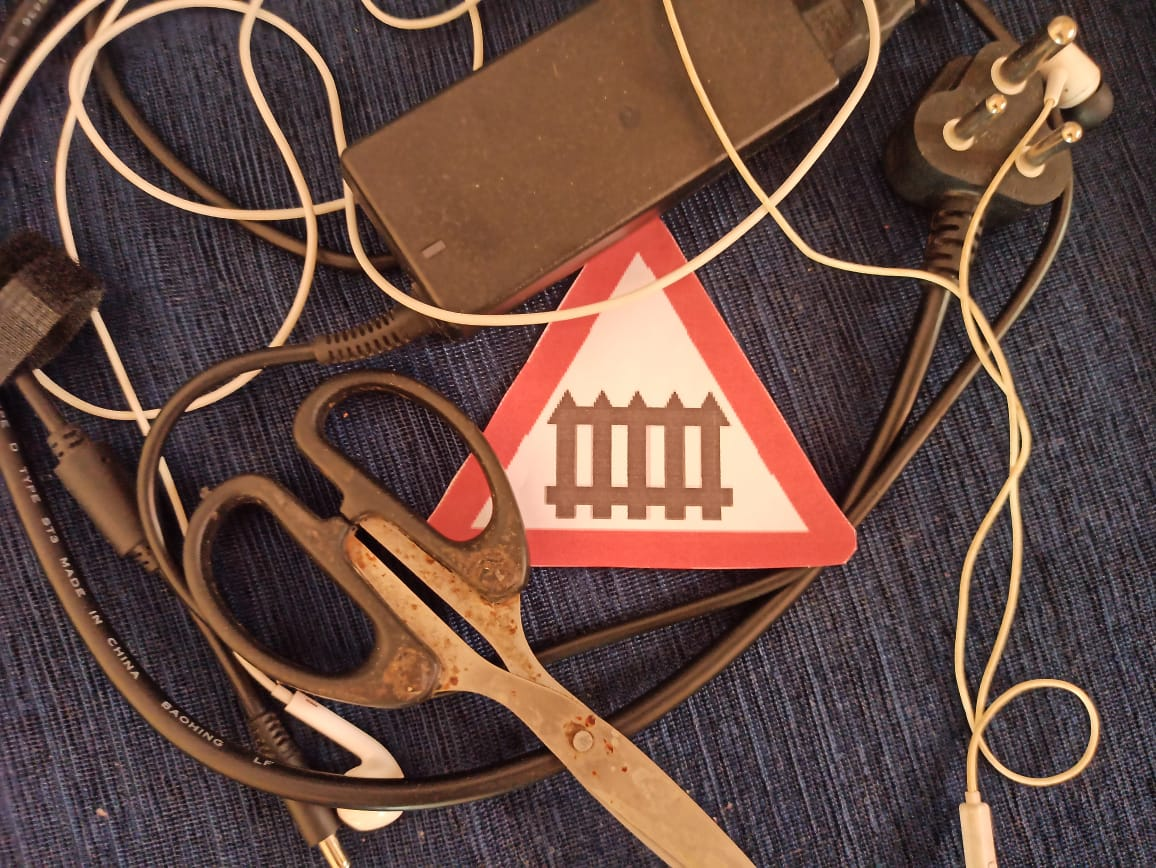GUARDED LEVEL CROSSING: (414, 179, 884, 582)
